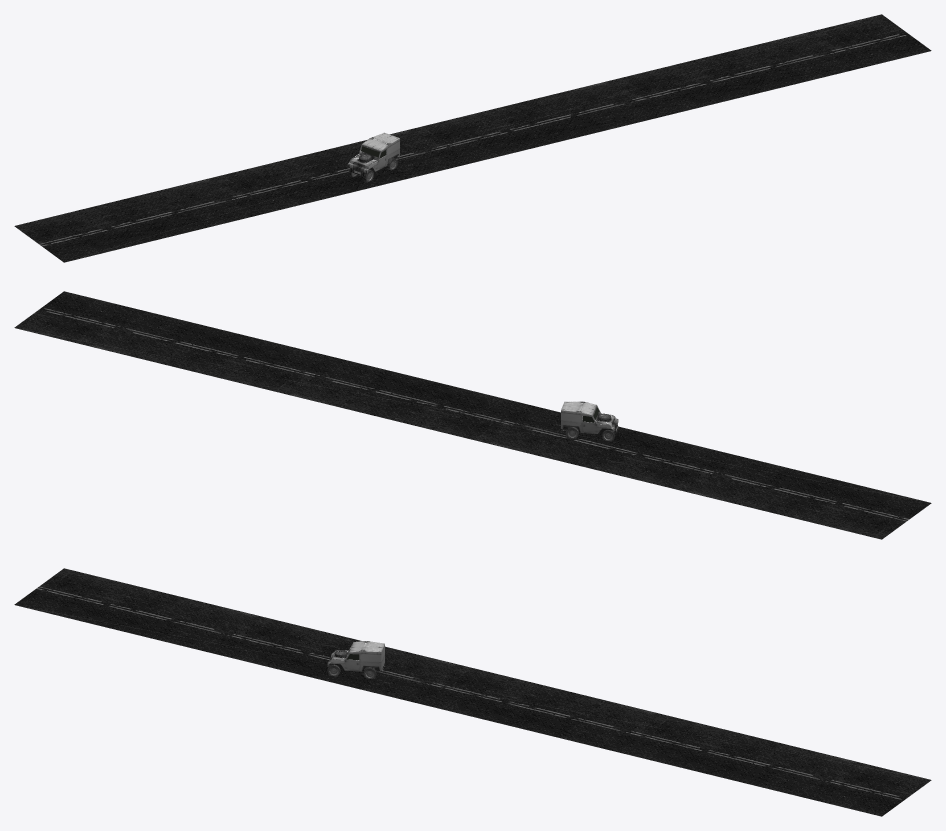
Rendered from onebit.glb.
3 views of the same model, one above another, from view 1: azimuth 30°, elevation 25°; view 2: azimuth 150°, elevation 25°; view 3: azimuth 330°, elevation 25° (orthographic).
Parts seen in each view (by area): view 1: Plane.001, Cylinder.003; view 2: Plane.001, Cylinder.003; view 3: Plane.001, Cylinder.003.
Boxes of the visible parts, <box> form: Plane.001: <box>14,14,931,262</box>; Cylinder.003: <box>347,132,399,182</box>; Plane.001: <box>14,291,931,539</box>; Cylinder.003: <box>561,401,618,441</box>; Plane.001: <box>14,568,931,816</box>; Cylinder.003: <box>327,641,384,678</box>.
Bounding box in the file's own units: 80 × 2.51 × 8.
3 materials, 2 textured.
